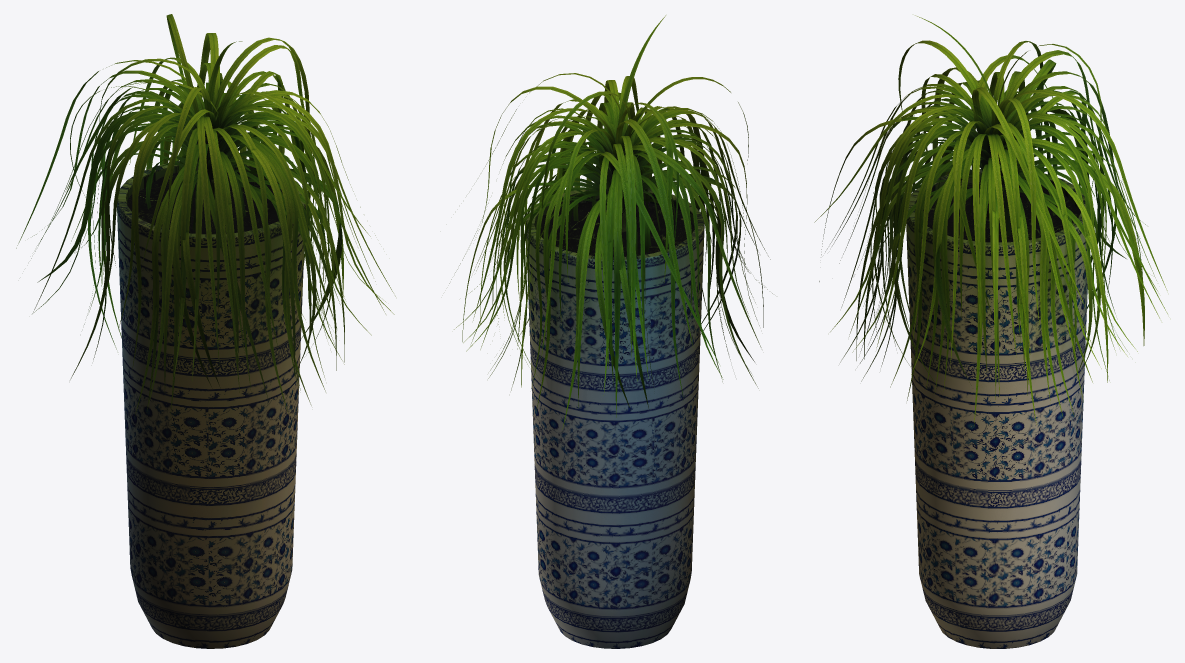
The model's file is CR_Plant_Left.FBX.
3 renders of one model, left to right at view 1: azimuth 30°, elevation 25°; view 2: azimuth 150°, elevation 25°; view 3: azimuth 270°, elevation 25°, orthographic. The views are drawn at different scales.
Parts seen in each view (by area): view 1: CR_Plant_Left, CR_Leaves_Left; view 2: CR_Plant_Left, CR_Leaves_Left; view 3: CR_Plant_Left, CR_Leaves_Left.
Part boxes in pixels (x1,y1,x2,y2): CR_Plant_Left: [117, 161, 305, 648]; CR_Leaves_Left: [16, 14, 395, 416]; CR_Plant_Left: [525, 187, 704, 648]; CR_Leaves_Left: [449, 15, 772, 429]; CR_Plant_Left: [906, 169, 1087, 648]; CR_Leaves_Left: [814, 15, 1167, 425].
Size of the model in its own units: 123 by 222 by 119.
